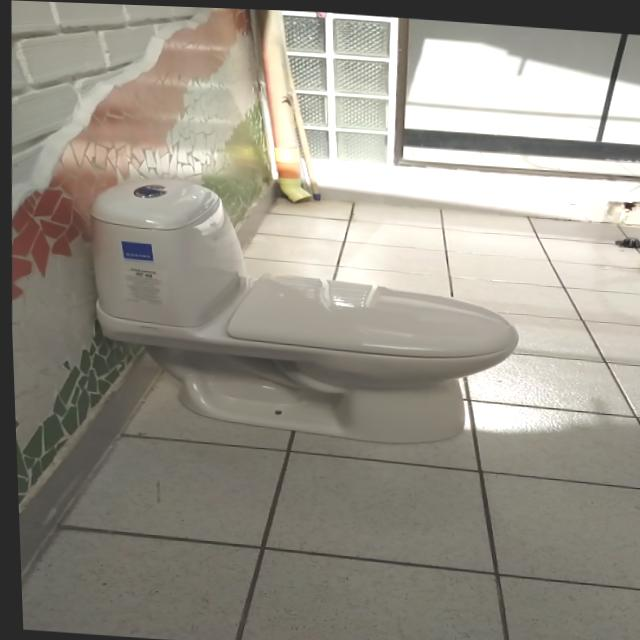toilet: (80, 171, 525, 449)
